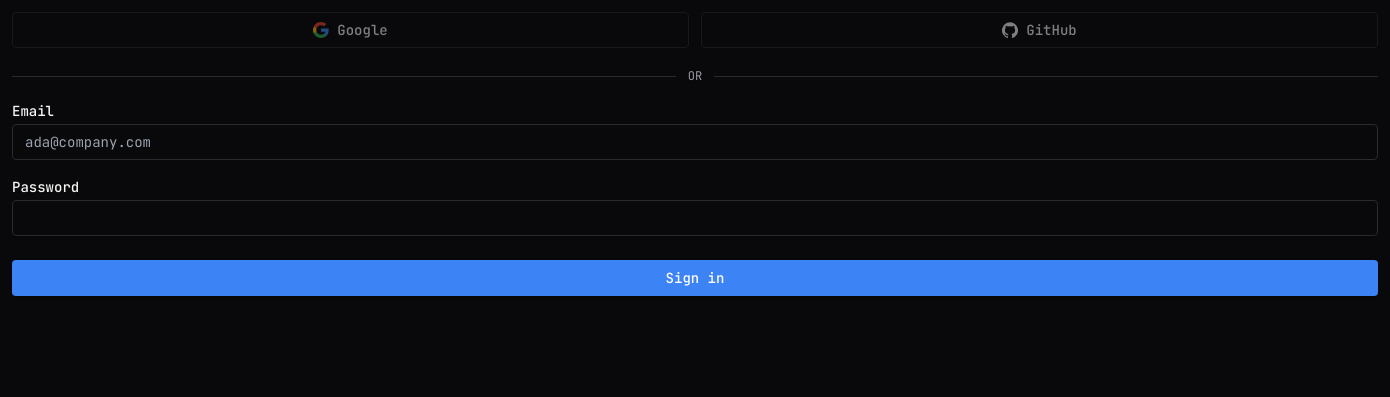
Test: LoginForm › shows the server error message on a failed login without redirecting
The width and height of the screenshot is (1390, 397).
Type "ada@example.com" into the field labelled "Email".
click(695, 142); type("ada@example.com")  # box left=12, top=124, right=1378, bottom=160
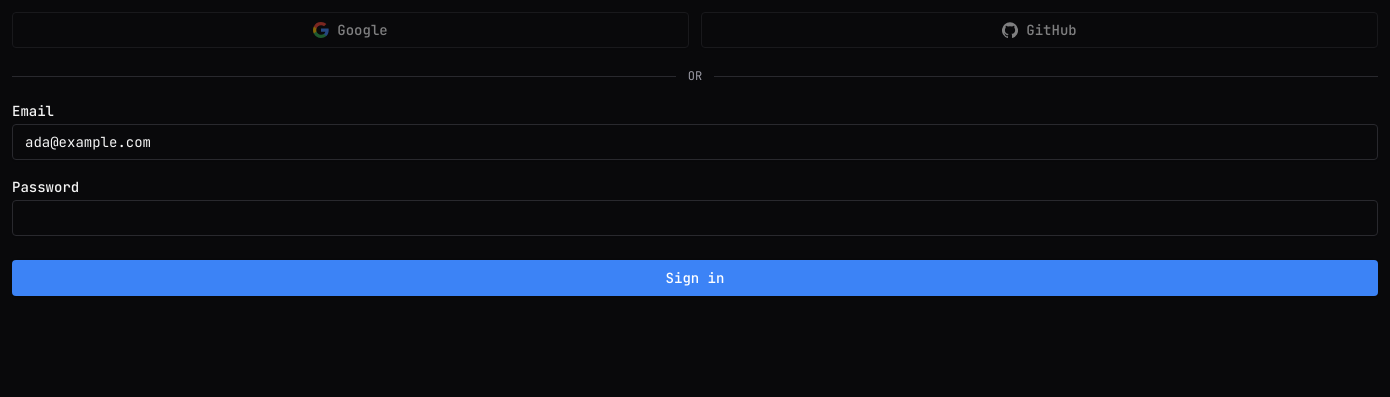
Type "wrong-password" into the password field labelled "Password".
click(695, 218); type("wrong-password")  # box left=12, top=200, right=1378, bottom=236
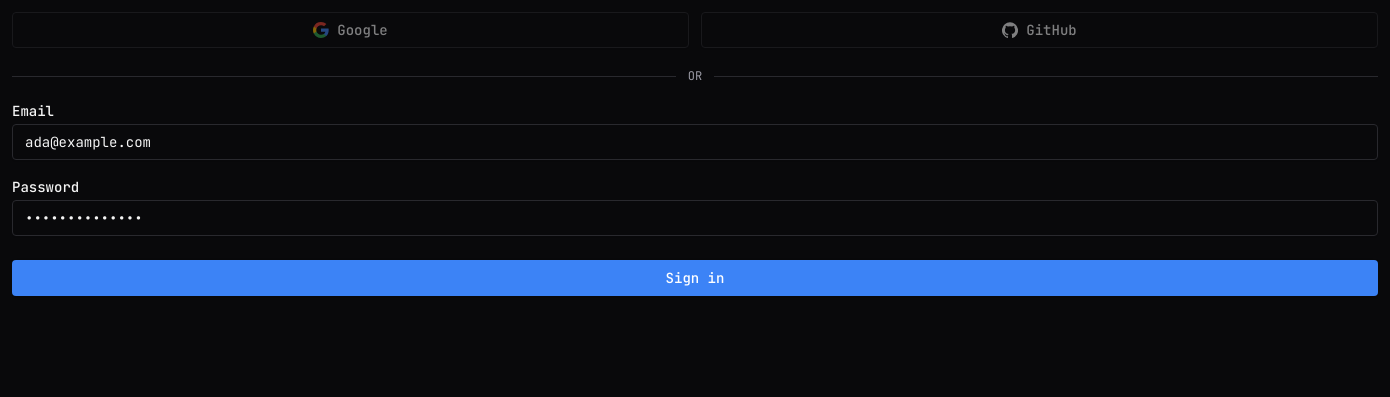
Click the button "Sign in".
click(695, 278)  # box left=12, top=260, right=1378, bottom=296
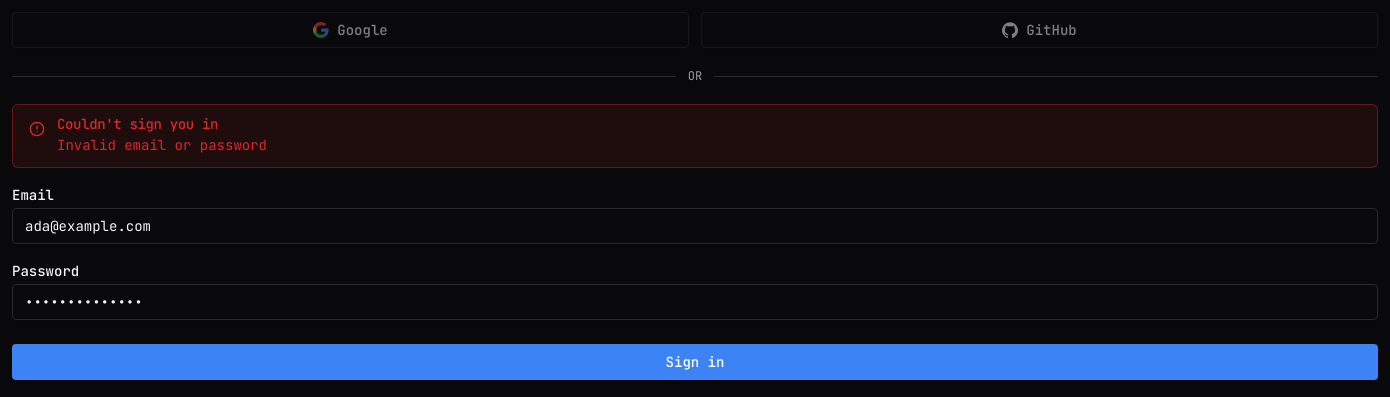
Result: the text "Invalid email or password" is shown at left=57, top=136, right=267, bottom=154
